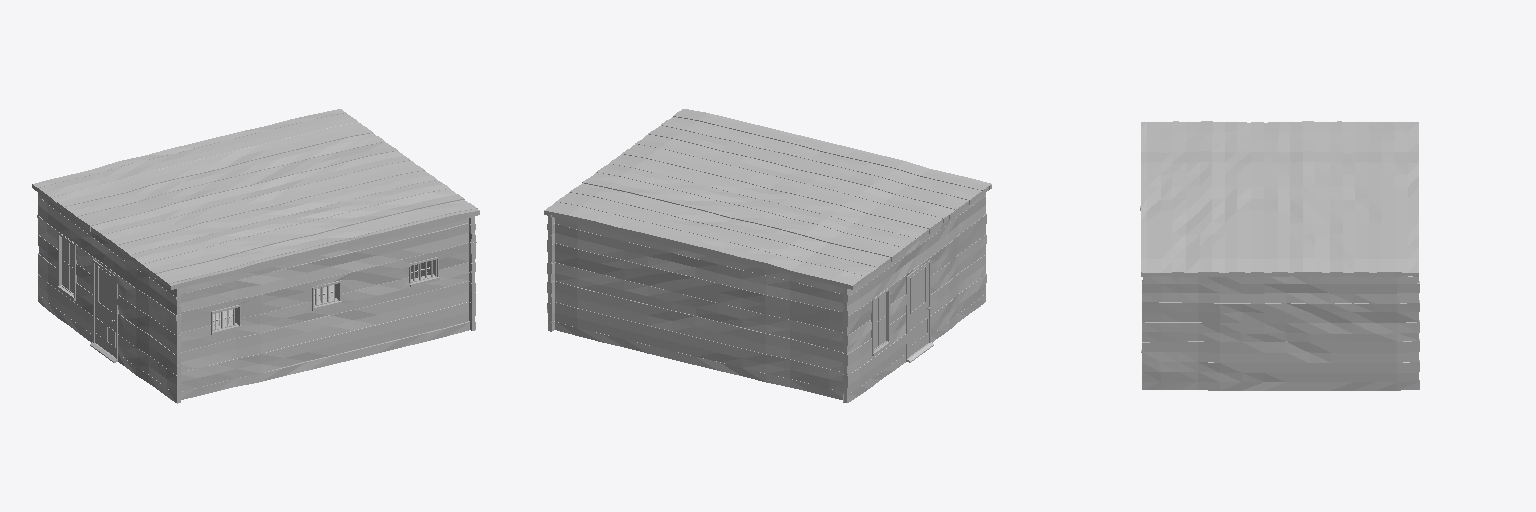
Rendered from Sherffs Office.obj.
The picture shows the model from 3 angles: view 1: azimuth 30°, elevation 25°; view 2: azimuth 150°, elevation 25°; view 3: azimuth 270°, elevation 25°; orthographic projection.
Visible parts, largest first — view 1: WildWest_Sherff_Walls, WildWest_Sherff_Ceiling, WildWest_Sherff_Door; view 2: WildWest_Sherff_Walls, WildWest_Sherff_Ceiling, WildWest_Sherff_Door; view 3: WildWest_Sherff_Ceiling, WildWest_Sherff_Walls.
Boxes of the visible parts, x1=… form: WildWest_Sherff_Walls: x1=37, y1=192, x2=476, y2=403; WildWest_Sherff_Ceiling: x1=32, y1=109, x2=479, y2=399; WildWest_Sherff_Door: x1=95, y1=263, x2=115, y2=357; WildWest_Sherff_Walls: x1=547, y1=193, x2=986, y2=402; WildWest_Sherff_Ceiling: x1=544, y1=109, x2=991, y2=308; WildWest_Sherff_Door: x1=908, y1=263, x2=929, y2=357; WildWest_Sherff_Ceiling: x1=1141, y1=121, x2=1418, y2=277; WildWest_Sherff_Walls: x1=1140, y1=206, x2=1419, y2=390.
Size of the model in its own units: 9.47 by 3.58 by 7.4.